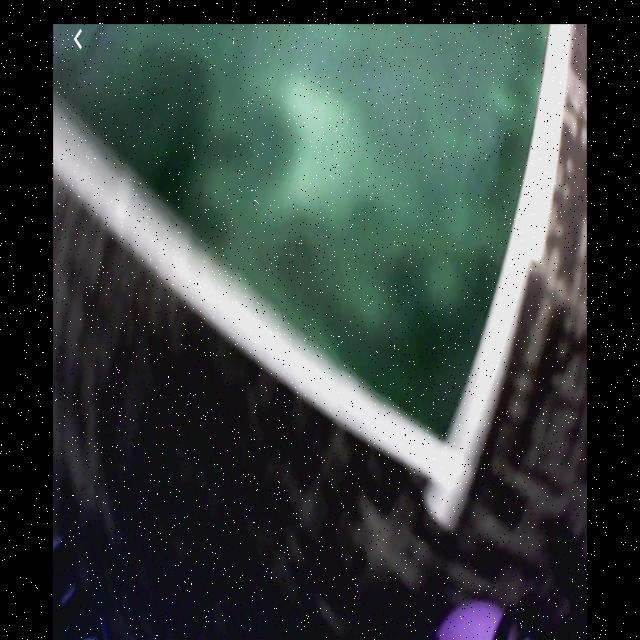ball: (436, 601, 528, 639)
